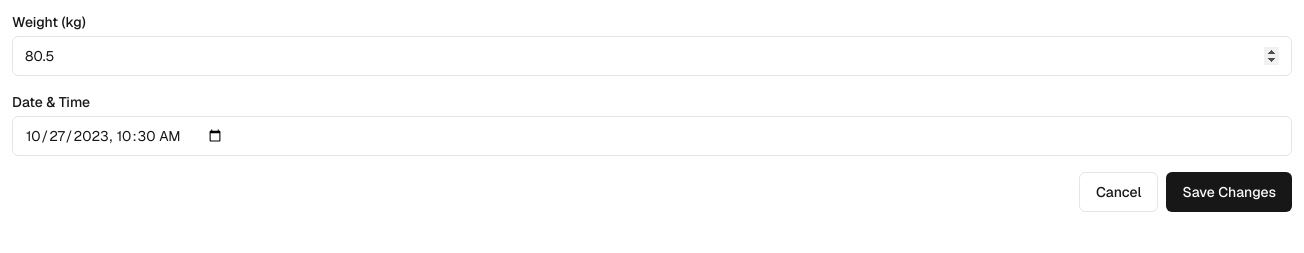
Test: EditWeightForm › displays an error message for a future date and keeps weight valid
This screenshot has width=1304, height=253.
Note: Set a valid weight
Replace the text in the number field labelled "Weight (kg)" with "70" at (652, 56), box 12,36 -> 1292,76
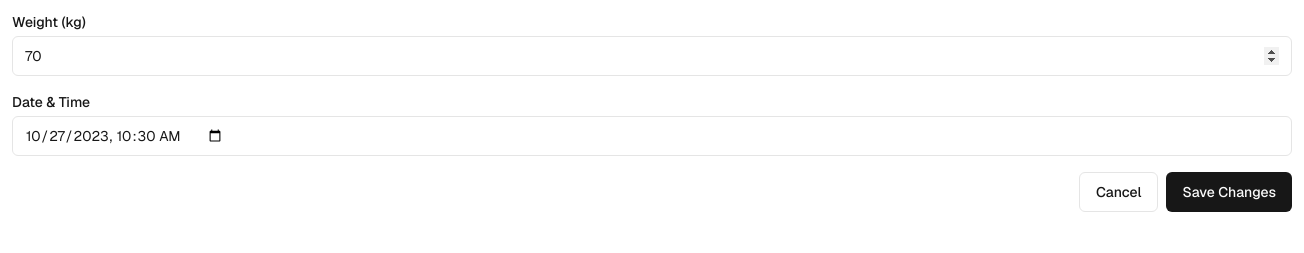
Replace the text in the field labelled "Date & Time" with "2023-11-02T10:00" at (652, 136), box 12,116 -> 1292,156
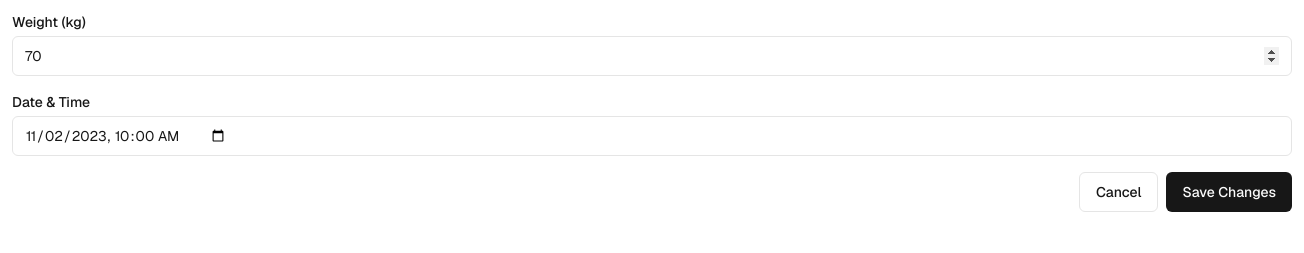
Click the button "Save Changes" at (1229, 192), box 1166,172 -> 1292,212
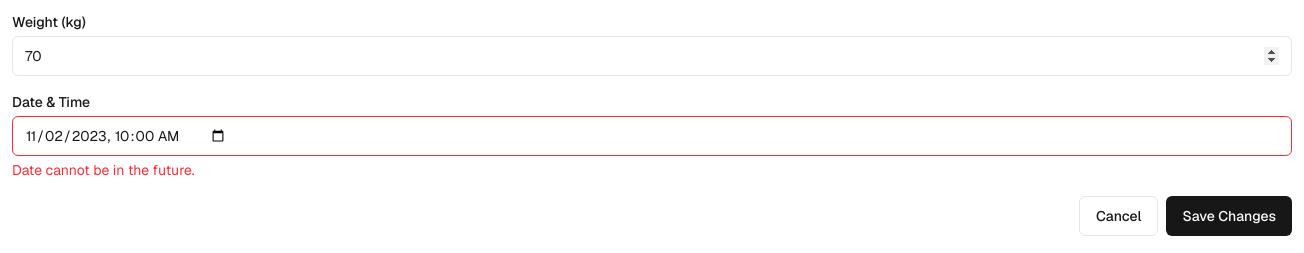
Now the text "Date cannot be in the future." is shown, box 12,161 -> 195,179
